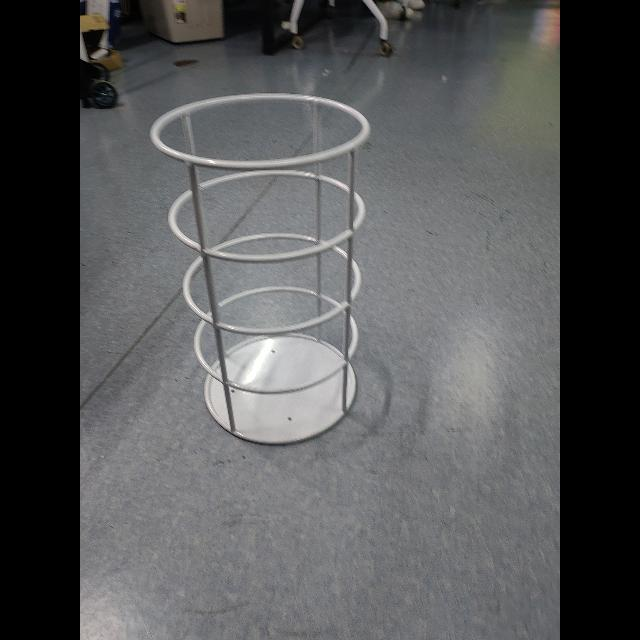S: (148, 90, 374, 453)
